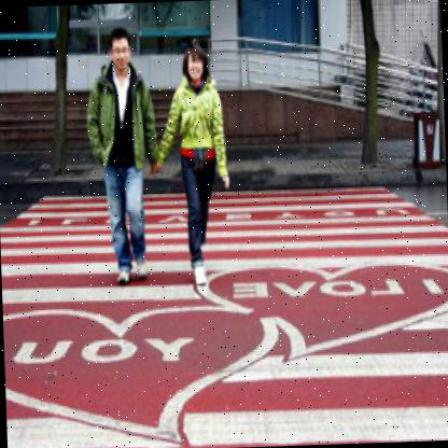wheel: (83, 28, 161, 281), (152, 44, 232, 289)
